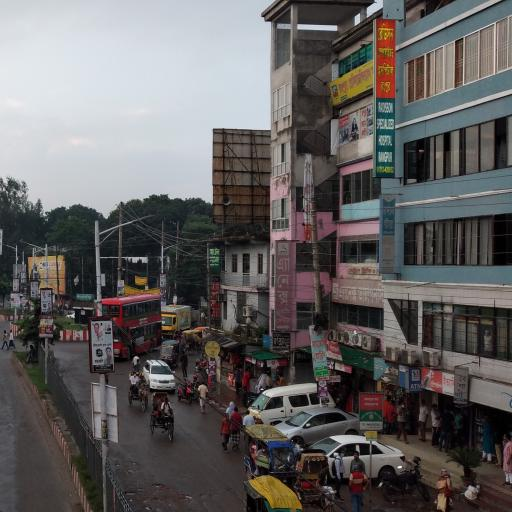auto rickshaw: (245, 427, 296, 485), (161, 340, 180, 367)
bus: (101, 294, 163, 360)
car: (316, 437, 407, 485), (278, 408, 363, 448), (145, 359, 177, 391)
motorbike: (380, 459, 432, 502), (195, 359, 210, 375)
pickup: (163, 306, 192, 339)
rickshaw: (297, 452, 336, 512), (149, 391, 176, 443), (129, 373, 150, 411)
scooter: (178, 382, 194, 405)
van: (250, 383, 337, 425)
